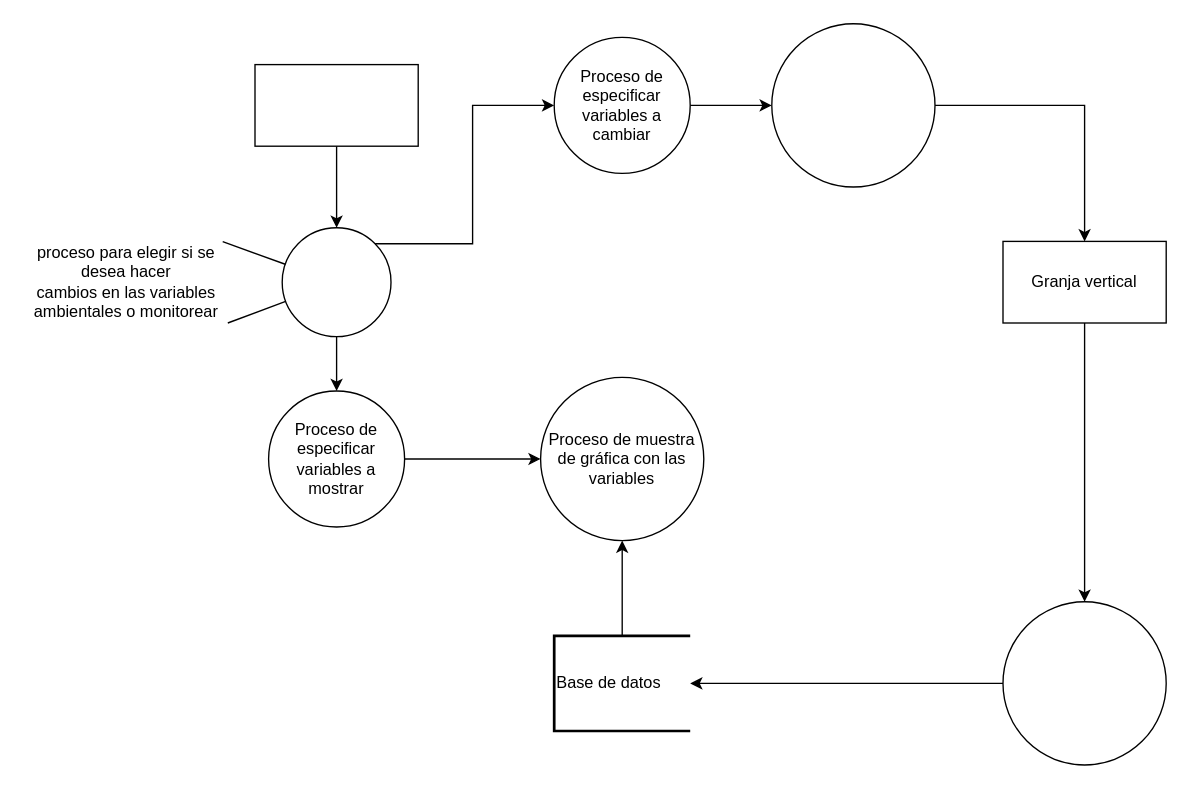
Image size: 1190x789. Some labels were removed from this diagram. Here are the shapes that lost their labels. From the top down, the centre of each, then its label:
point (336, 104): Sistema de control y monitoreo
point (852, 104): Proceso de cambio de variables
point (1084, 682): Proceso de almacenar los camios
